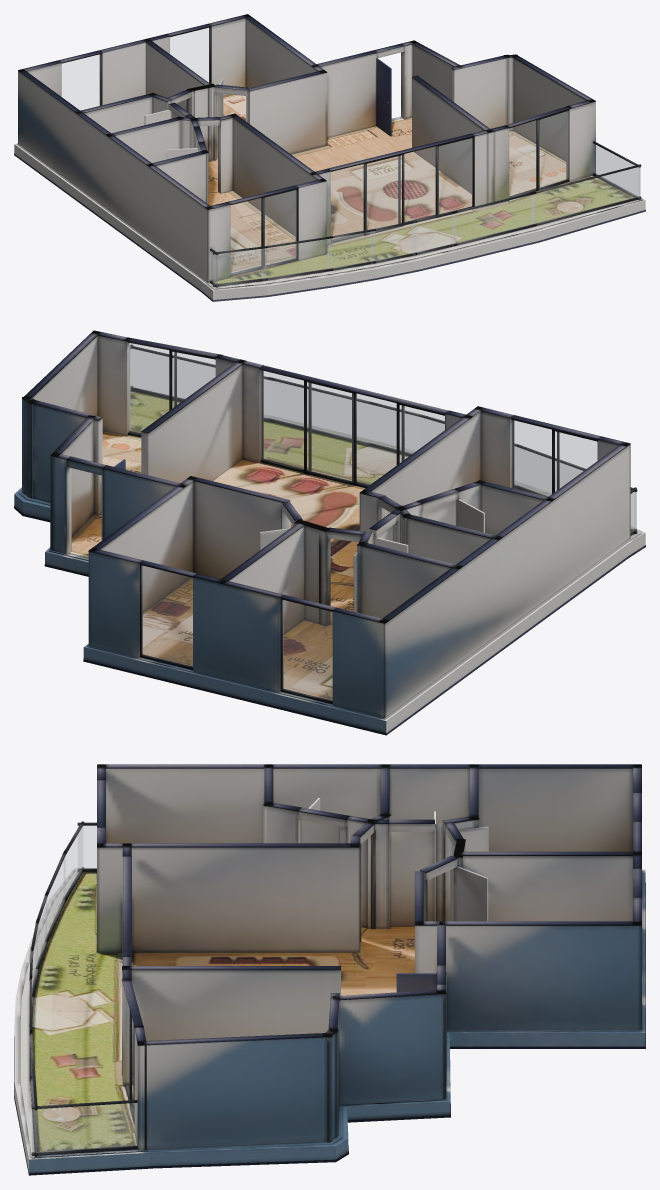
3 views of the same model, one above another, from view 1: azimuth 30°, elevation 25°; view 2: azimuth 150°, elevation 25°; view 3: azimuth 270°, elevation 25° (orthographic). The views are drawn at different scales.
Visible parts, largest first — view 1: plan, glass2_m, glass4_m, glass3_m, railg1_m, railg2_m, railg6_m, glass0_m, railg7_m, glass1_m, railg5_m, railg4_m (+2 smaller); view 2: plan, glass2_m, glass3_m, glass1_m, glass0_m, glass4_m, railg2_m, railg1_m, railg6_m, railg3_m; view 3: plan, railg0_m, railg6_m, railg8_m, railg7_m.
Boxes of the visible parts, left/top/right/bottom form: plan: left=14, top=14, right=645, bottom=301; glass2_m: left=331, top=138, right=472, bottom=240; glass4_m: left=231, top=190, right=296, bottom=273; glass3_m: left=509, top=111, right=567, bottom=197; railg1_m: left=530, top=167, right=640, bottom=224; railg2_m: left=451, top=194, right=535, bottom=243; railg6_m: left=261, top=238, right=332, bottom=278; glass0_m: left=62, top=54, right=100, bottom=110; railg7_m: left=213, top=248, right=266, bottom=284; glass1_m: left=170, top=28, right=209, bottom=82; railg5_m: left=327, top=231, right=374, bottom=268; railg4_m: left=370, top=223, right=416, bottom=261; plan: left=14, top=330, right=645, bottom=735; glass2_m: left=261, top=370, right=444, bottom=485; glass3_m: left=129, top=343, right=215, bottom=434; glass1_m: left=142, top=566, right=192, bottom=666; glass0_m: left=283, top=600, right=332, bottom=700; glass4_m: left=512, top=420, right=597, bottom=496; railg2_m: left=274, top=381, right=369, bottom=442; railg1_m: left=131, top=349, right=270, bottom=418; railg6_m: left=522, top=449, right=582, bottom=496; railg3_m: left=376, top=406, right=420, bottom=453; plan: left=14, top=764, right=645, bottom=1175; railg0_m: left=32, top=1103, right=137, bottom=1152; railg6_m: left=45, top=857, right=65, bottom=939; railg8_m: left=78, top=826, right=96, bottom=868; railg7_m: left=64, top=827, right=82, bottom=898.
Bounding box in the file's own units: 13.41 × 2.62 × 12.29.
2 materials, 1 textured.
